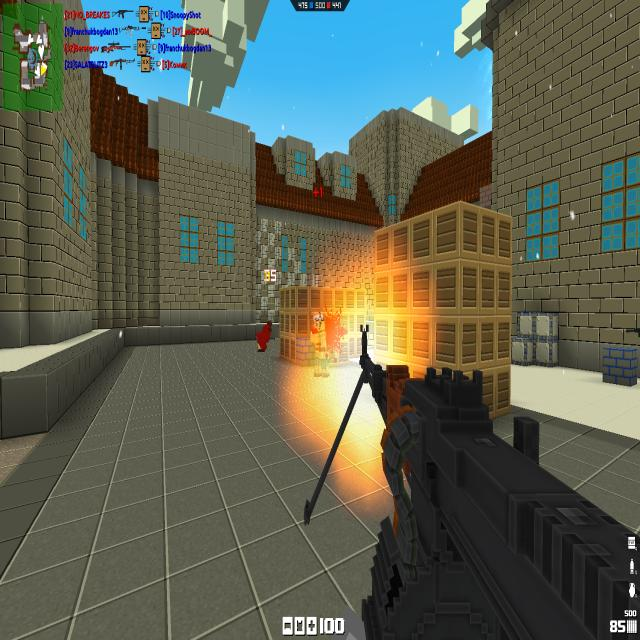player: (310, 308, 328, 375), (255, 319, 273, 352)
